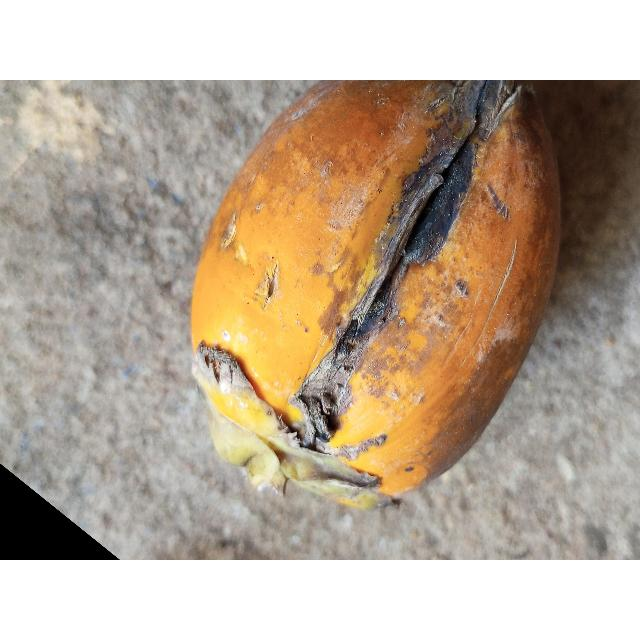damaged: (189, 80, 564, 511)
